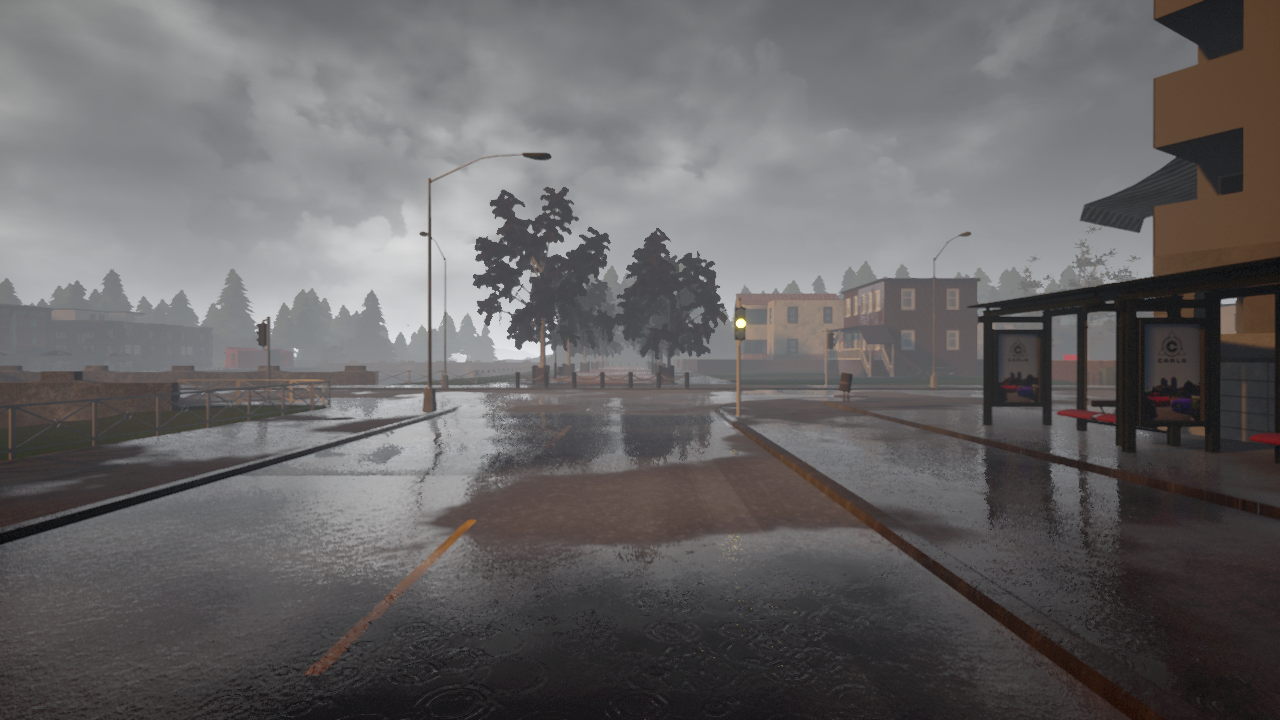yellow: (732, 304, 747, 341)
